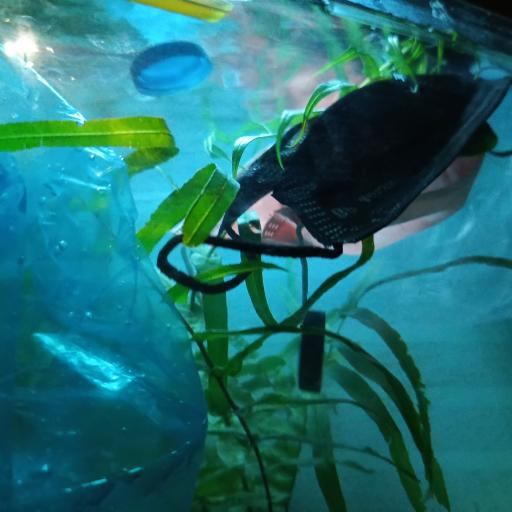bottle_cap: (132, 39, 212, 97), (300, 310, 323, 394)
mask: (154, 67, 512, 296), (253, 94, 484, 262)
plastic_bag: (0, 45, 210, 512)
plastic_straw: (321, 0, 512, 68), (133, 0, 233, 22)
